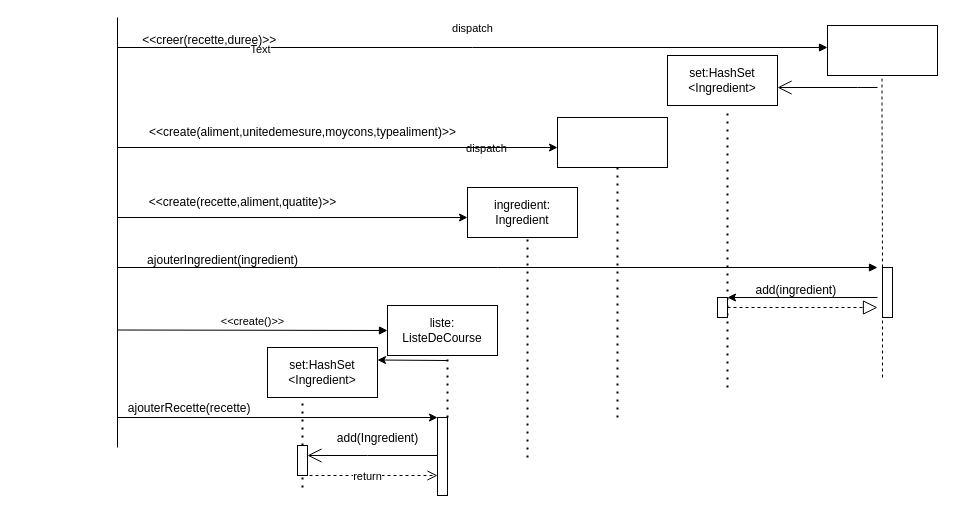
This 955x513 diagram has some shape labels left out. The shapes that lost their labels are listed below. From the top down, each one's centre as x and y in pixels, then its label:
At pixel 882 50: "recette: Recette".
At pixel 612 142: "aliment:Aliments".
